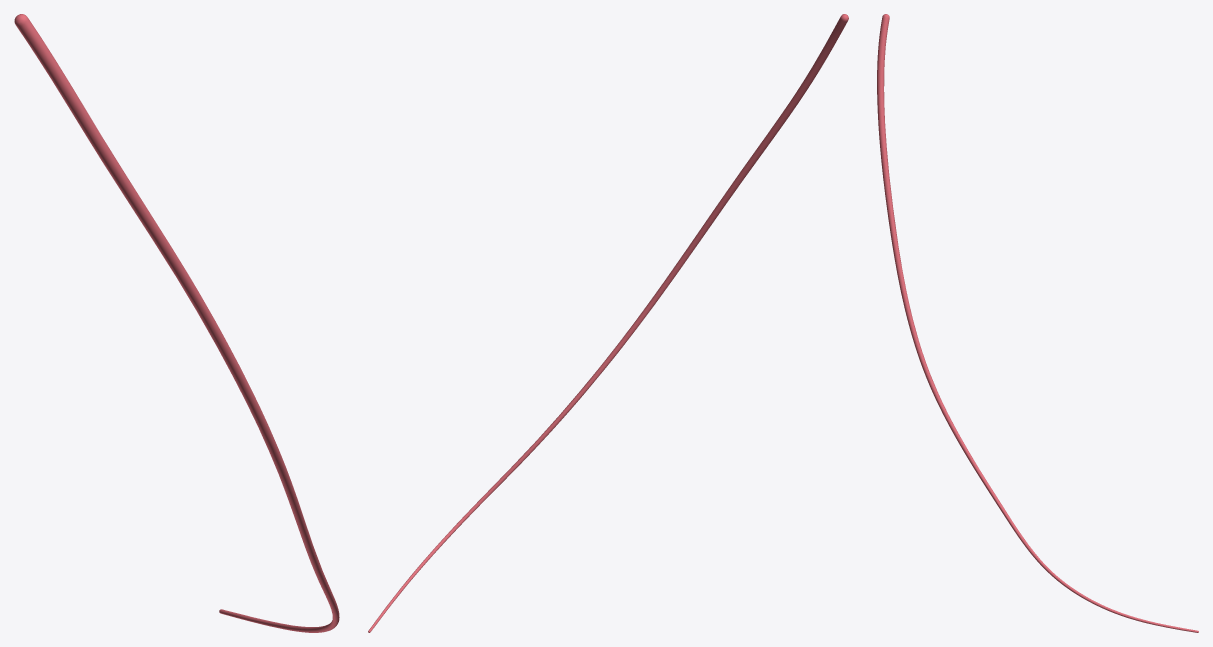
Rendered from fma4077_fj1979.glb.
3 renders of one model, left to right at view 1: azimuth 30°, elevation 25°; view 2: azimuth 150°, elevation 25°; view 3: azimuth 270°, elevation 25°, orthographic. The views are drawn at different scales.
Parts seen in each view (by area): view 1: FMA4077_FJ1979; view 2: FMA4077_FJ1979; view 3: FMA4077_FJ1979.
Boxes of the visible parts, <box> form: FMA4077_FJ1979: <box>14,14,339,632</box>; FMA4077_FJ1979: <box>368,14,848,632</box>; FMA4077_FJ1979: <box>877,14,1198,632</box>.
Size of the model in its own units: 0.1015 by 0.1783 by 0.1059.
